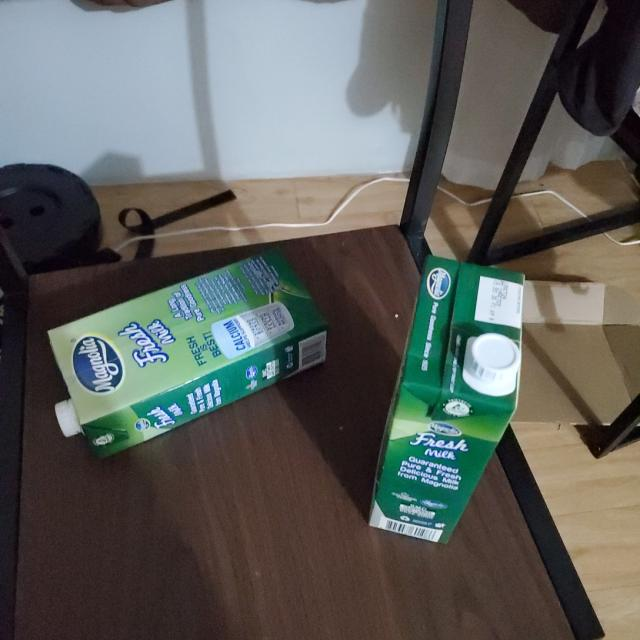milk: (44, 247, 328, 461), (362, 258, 526, 549)
